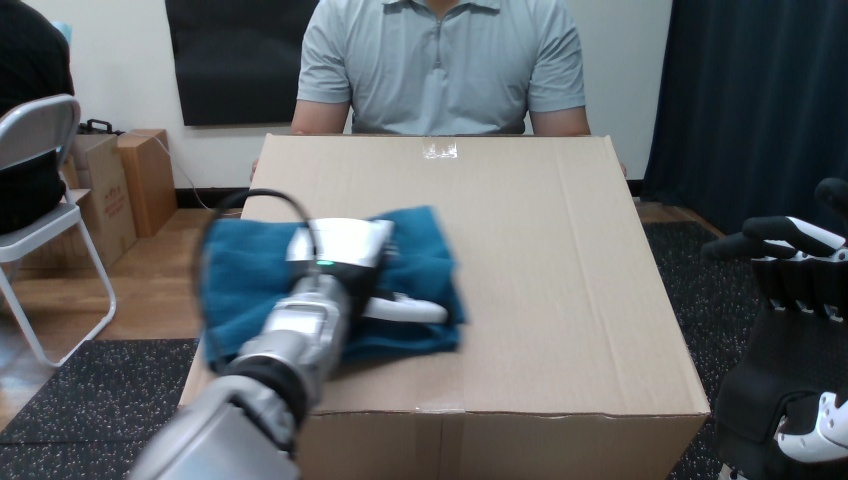left robot hand: (129, 188, 447, 478), (702, 216, 847, 478)
